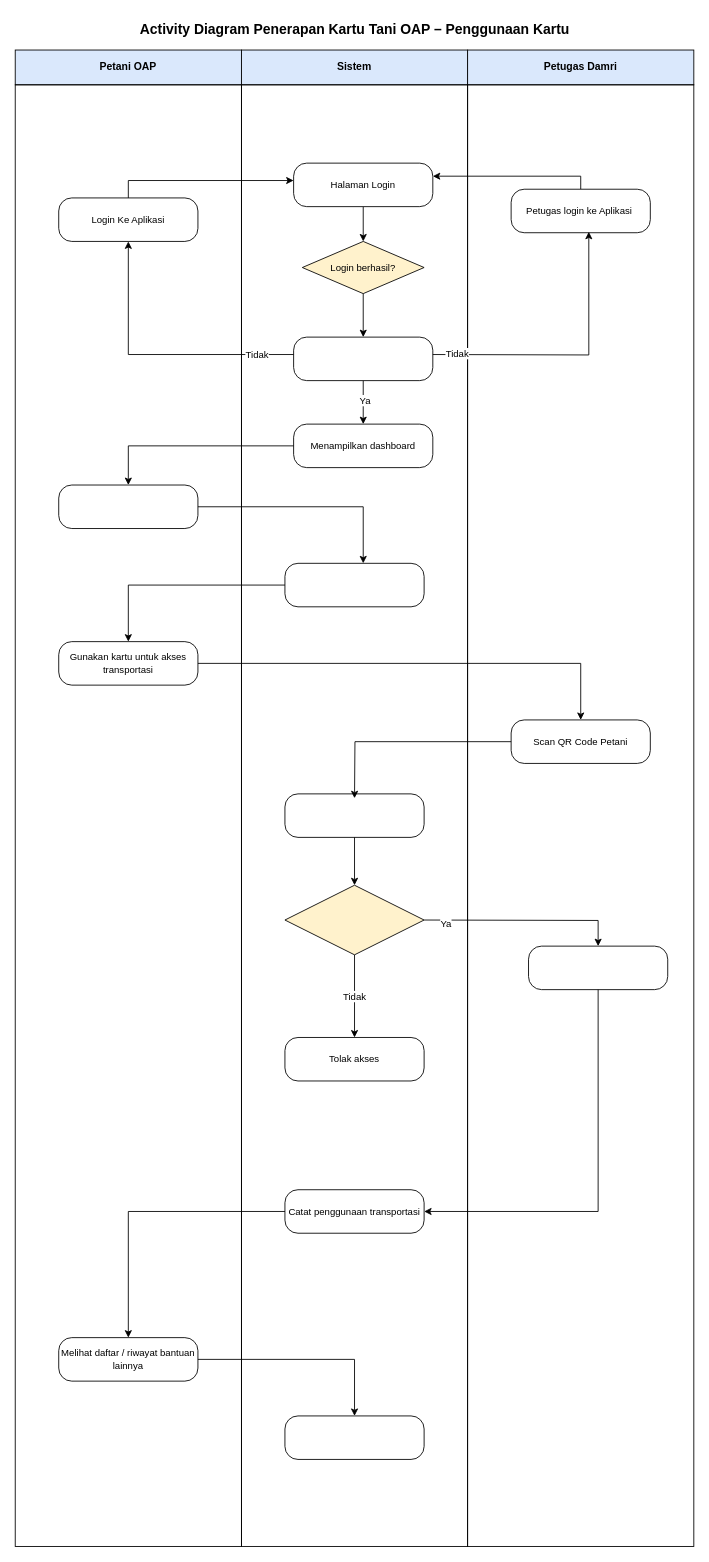
Image size: 709x1562. Some labels were removed from this diagram. Each missing label, with the box of its shape:
Buka Kartu Tani (QR Code): (58, 484, 198, 529)
Kartu valid?: (284, 884, 424, 955)
Layani angkut hasil petani: (528, 945, 668, 990)
Memvalidasi akun: (293, 336, 433, 381)
Menampilkan daftar / riwayat bantuan: (284, 1415, 424, 1459)
Menampilkan Kartu Tani digital (QR Code): (284, 562, 424, 607)
Validasi kartu: (284, 793, 424, 837)
